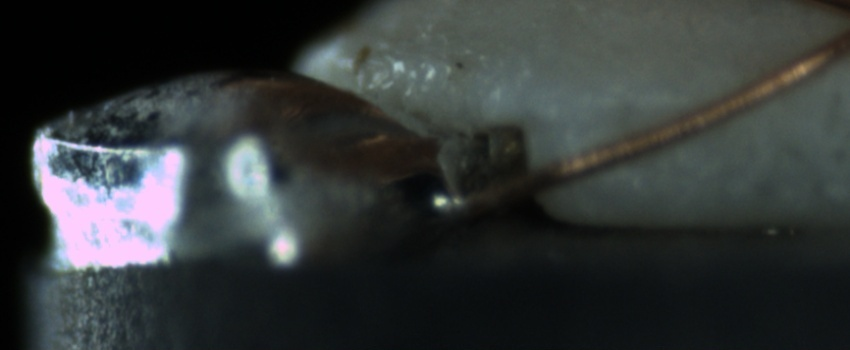DL: (565, 75, 713, 131)
